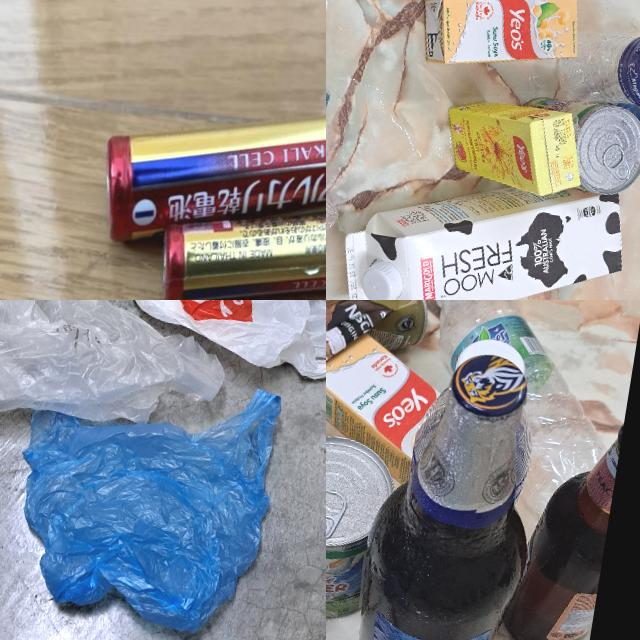aba de lata: (596, 140, 636, 188), (326, 480, 347, 547)
bateria: (87, 63, 326, 287), (151, 169, 326, 300)
caixinha: (336, 157, 635, 300), (326, 330, 484, 492), (437, 92, 589, 206), (414, 0, 588, 80)
garrafa de vidro: (346, 347, 557, 640), (503, 377, 629, 640), (615, 98, 640, 179)
garrafa plástica: (414, 300, 620, 510), (326, 12, 368, 246), (578, 17, 640, 112)
lata: (326, 428, 396, 622), (523, 89, 640, 204), (326, 300, 433, 384)
sacola plástica: (0, 353, 292, 640), (0, 300, 250, 458), (112, 300, 326, 394)
tampa plástica: (357, 259, 405, 300)
